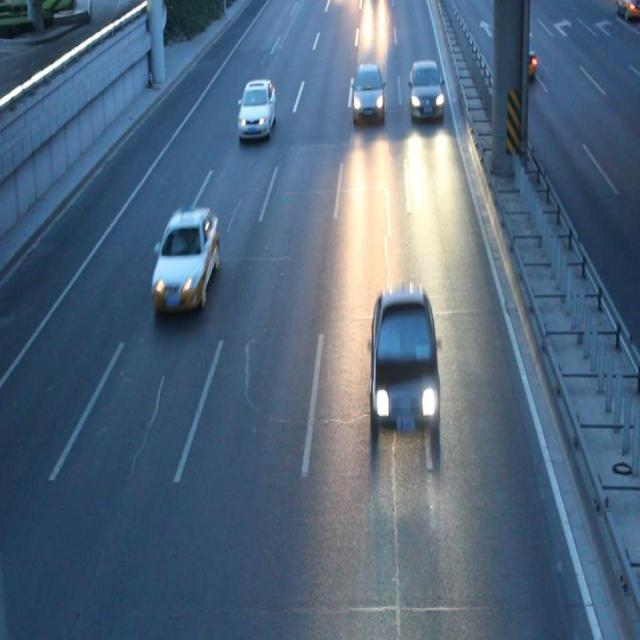car: (367, 290, 440, 437), (152, 208, 218, 310), (238, 78, 275, 138), (407, 61, 443, 122), (350, 64, 384, 124)
